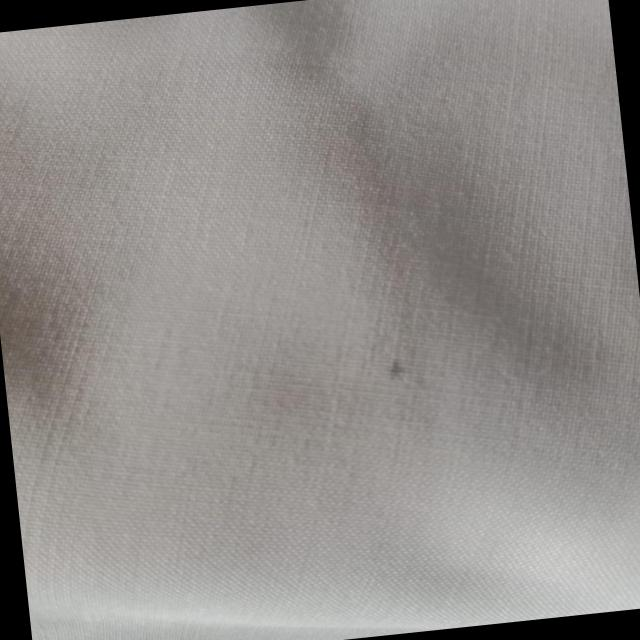stain: (357, 340, 438, 395)
